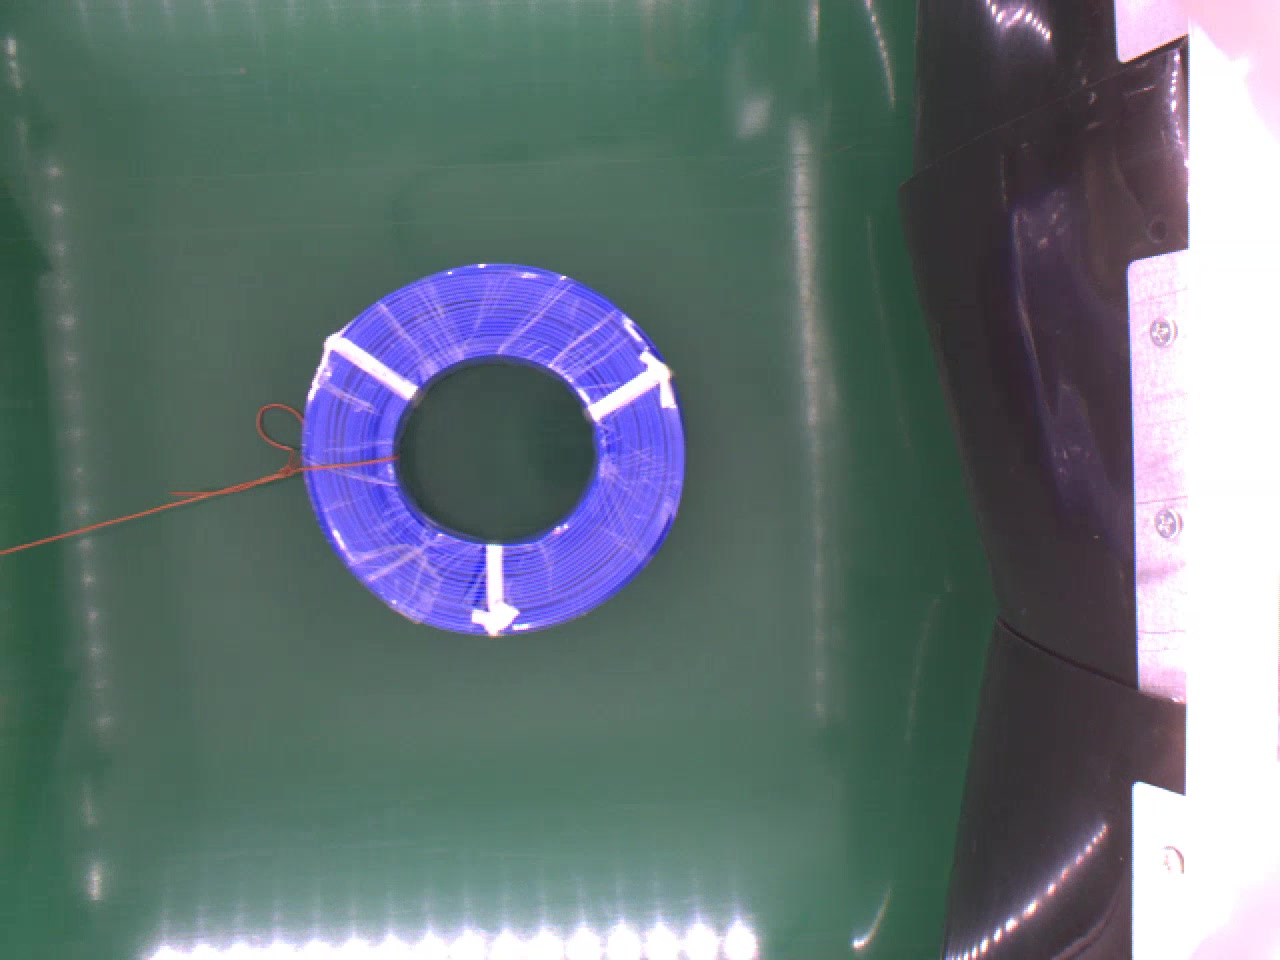blue: (291, 252, 672, 620)
